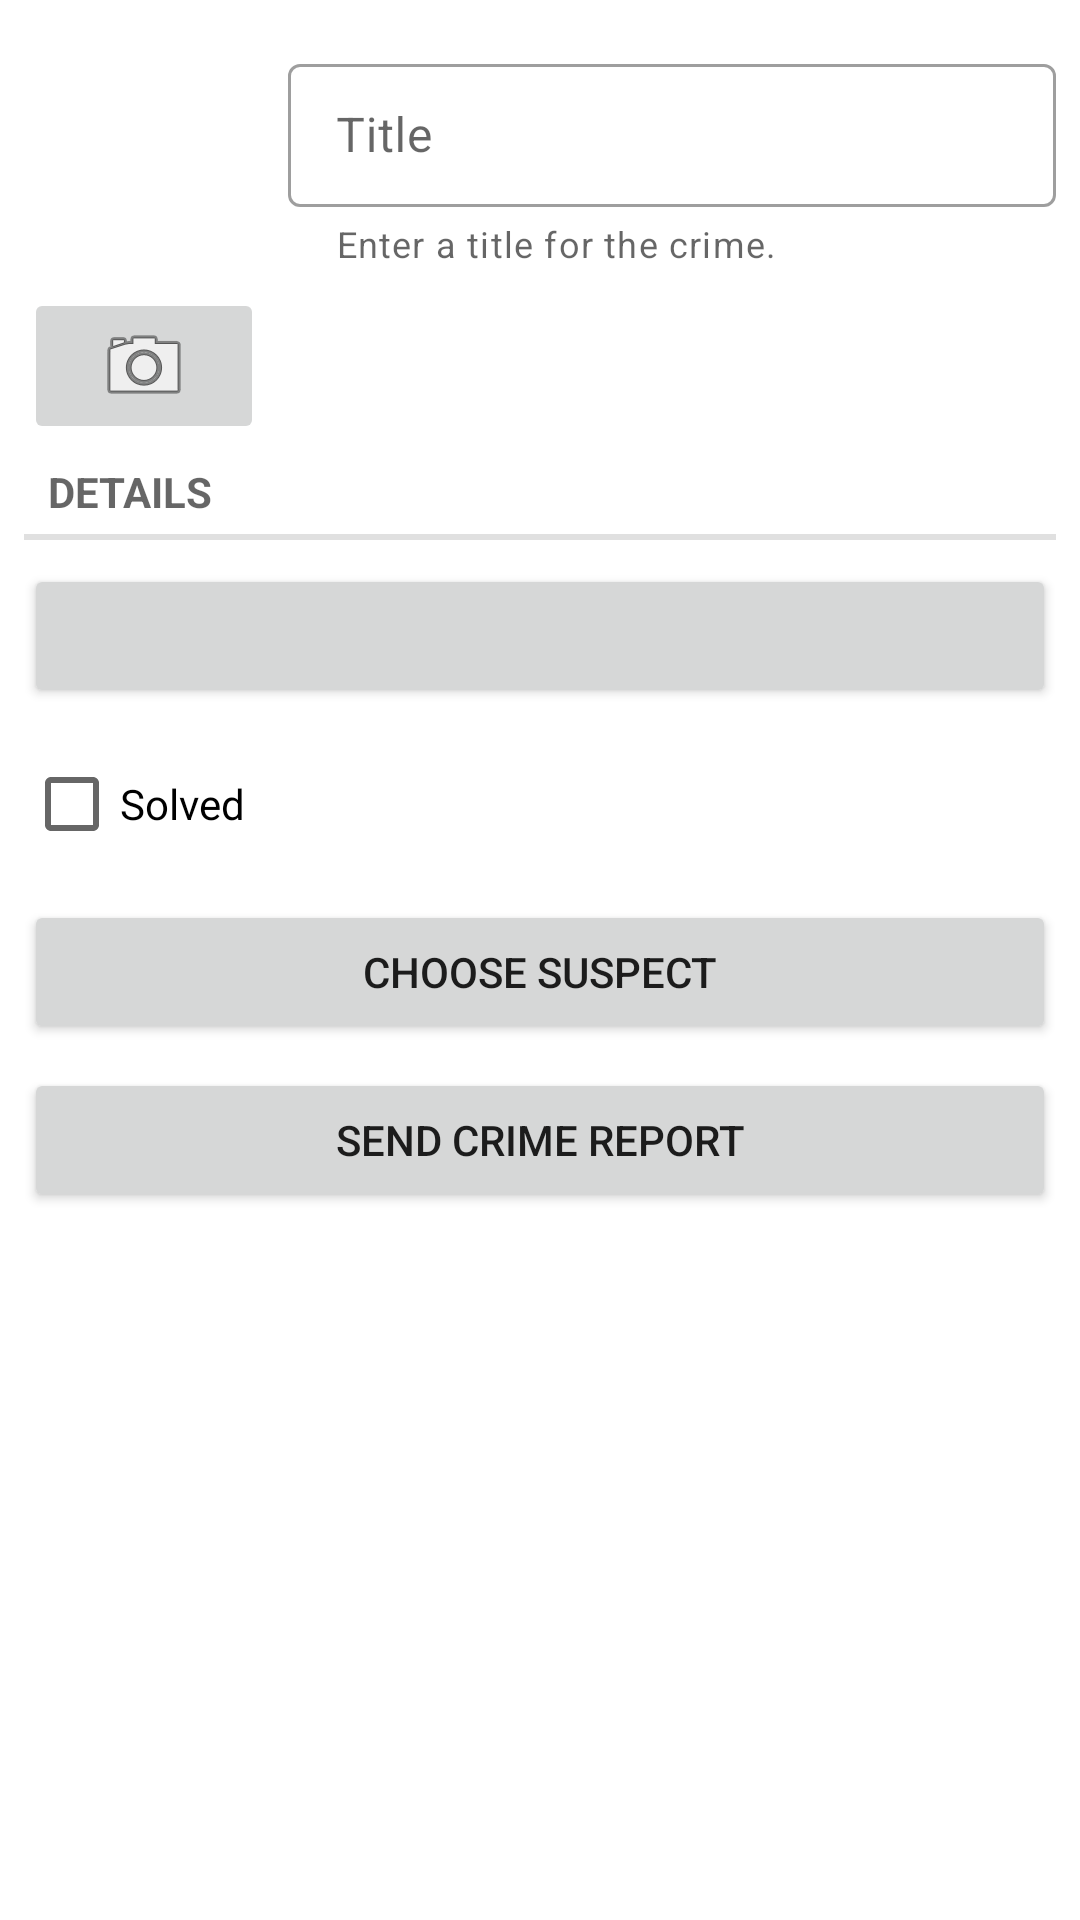

Point at icon controls on the screen. Image size 1080w x 1920h, points as [x,y].
camera: [144,366]
